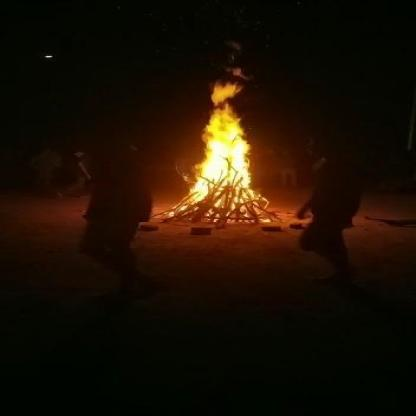fire: (173, 57, 280, 223)
